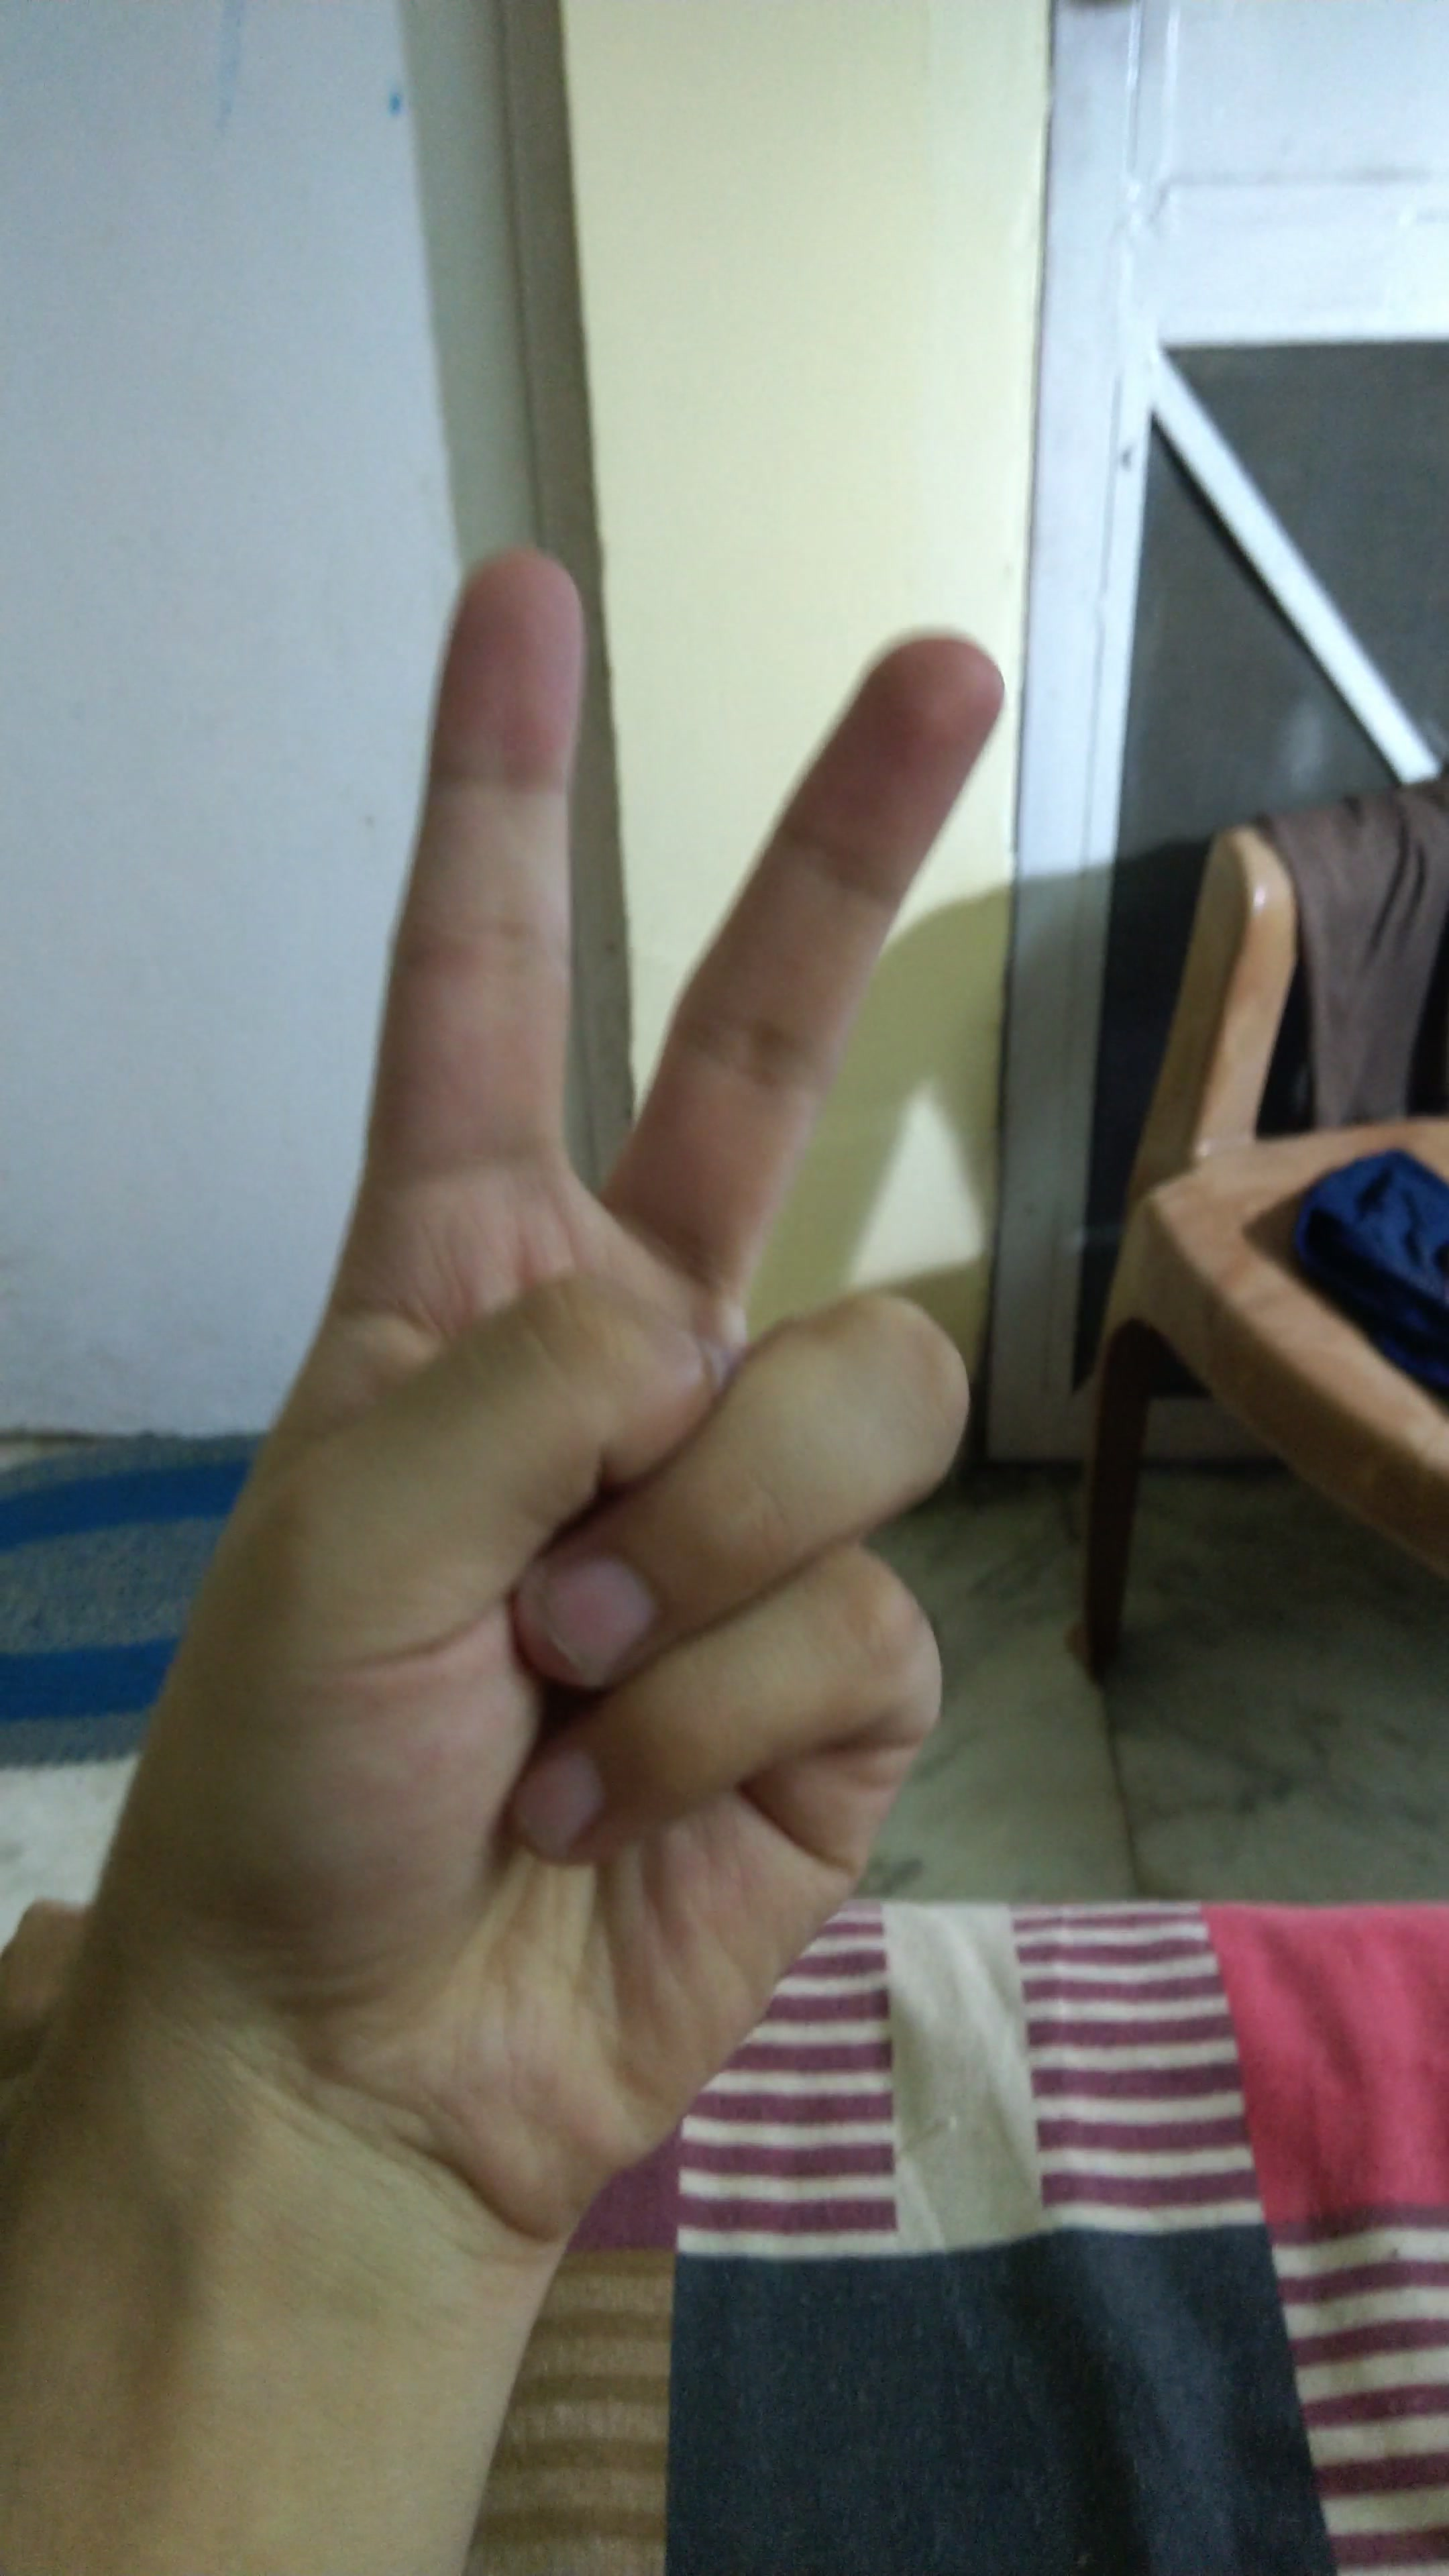hand: (85, 479, 1005, 2236)
